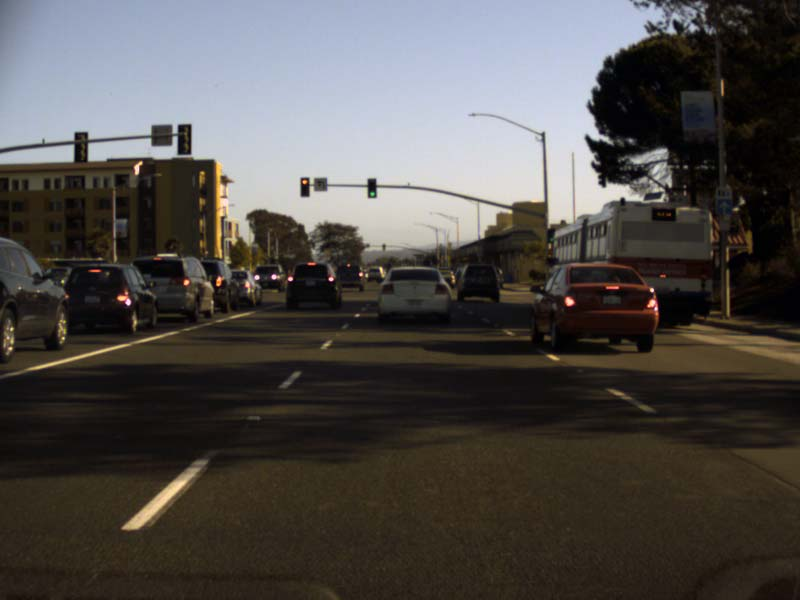Green: (366, 178, 376, 197), (546, 228, 554, 242), (381, 243, 385, 250)
Red: (300, 178, 308, 196)
